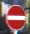No entry: (5, 5, 25, 29)
